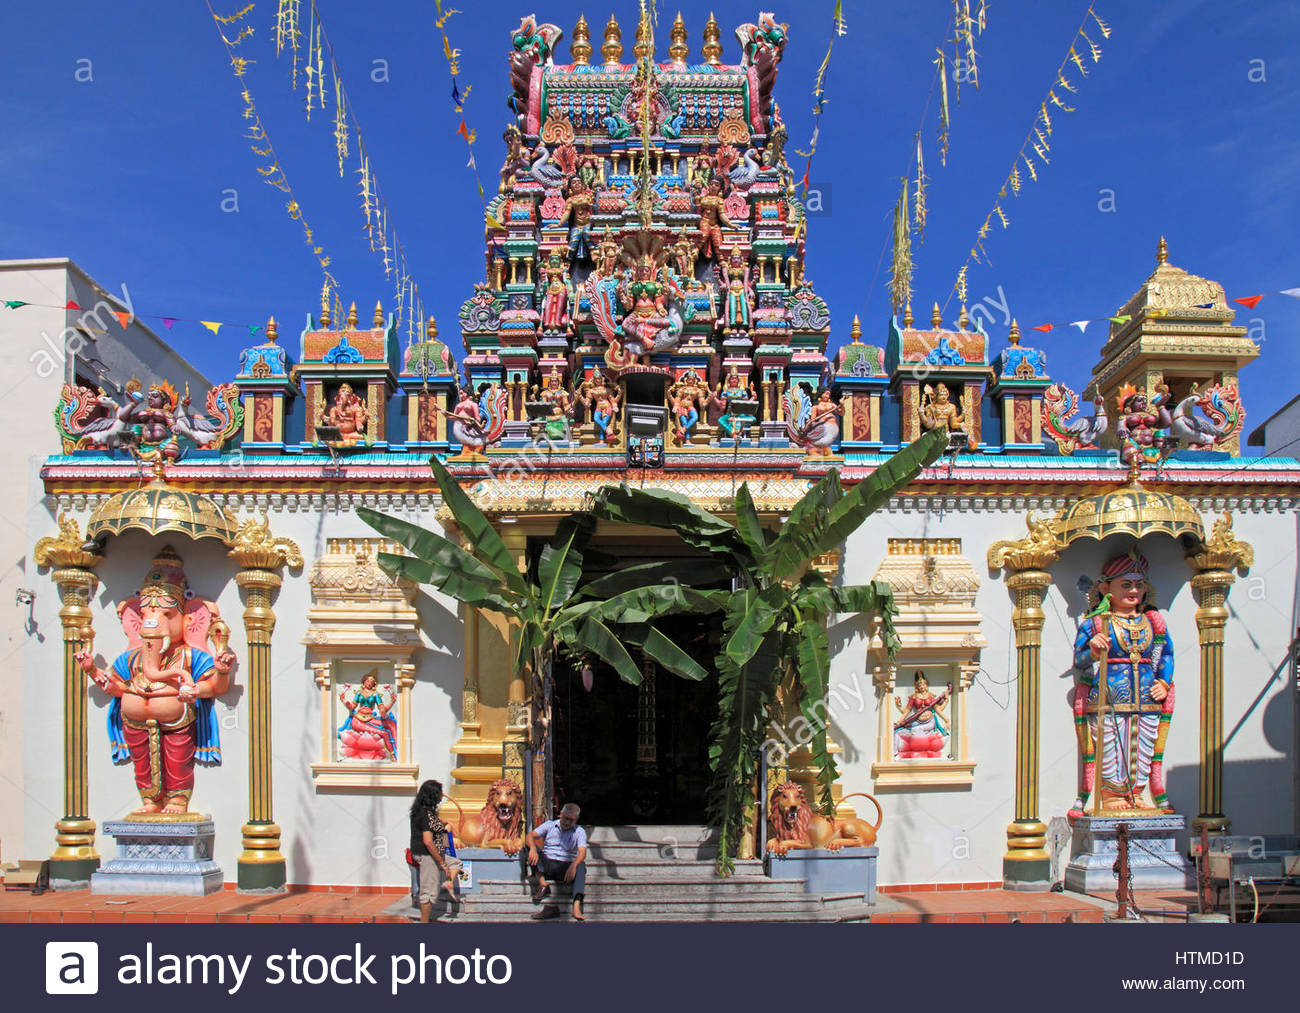Buddhist Temple: (17, 22, 1284, 885)
